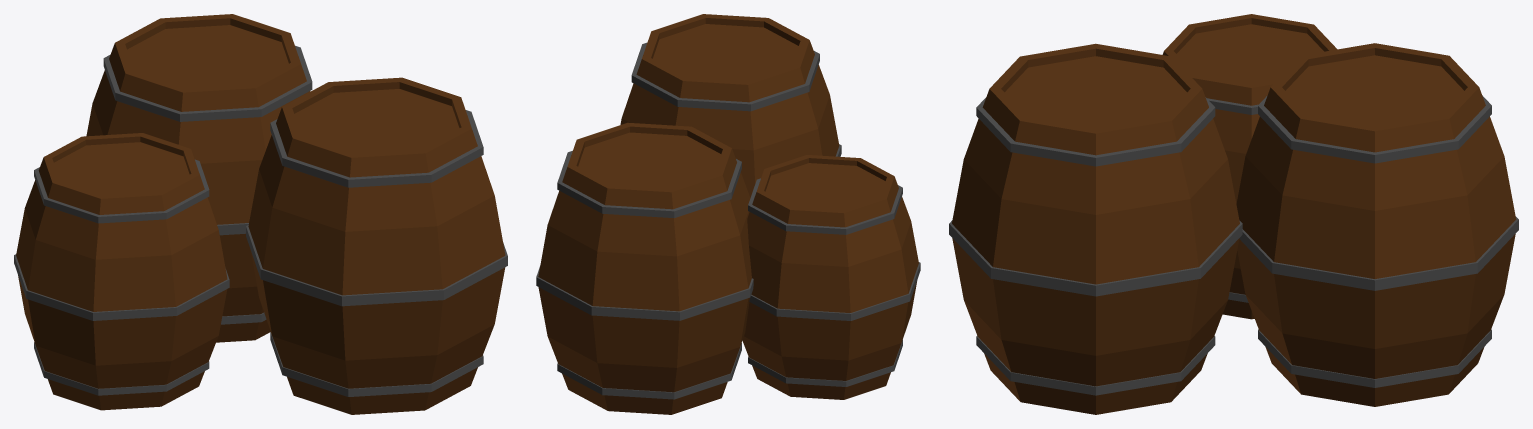
Rendered from Smithworkshop_barrels.fbx.
3 renders of one model, left to right at view 1: azimuth 30°, elevation 25°; view 2: azimuth 150°, elevation 25°; view 3: azimuth 270°, elevation 25°, orthographic. The views are drawn at different scales.
Parts seen in each view (by area): view 1: Cube.001; view 2: Cube.001; view 3: Cube.001.
Part boxes in pixels (x1=…): Cube.001: x1=14, y1=14, x2=507, y2=414; Cube.001: x1=536, y1=14, x2=920, y2=414; Cube.001: x1=949, y1=14, x2=1518, y2=414.
Size of the model in its own units: 175 by 115 by 200.
